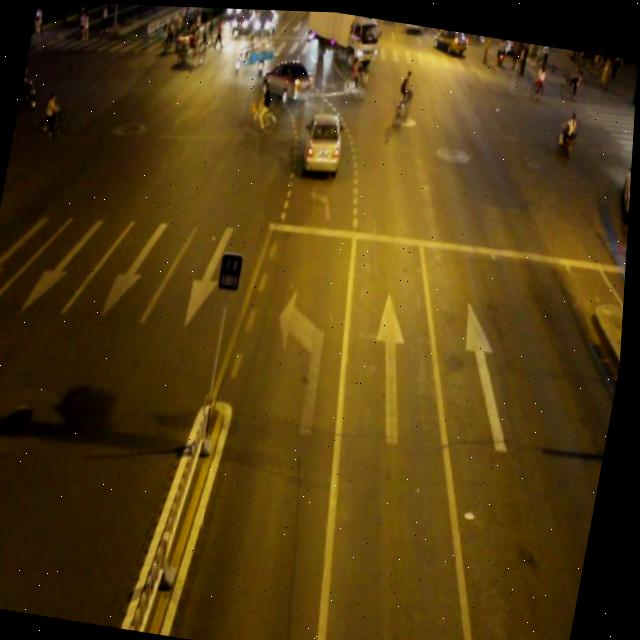car: (301, 106, 348, 175), (258, 53, 316, 103)
